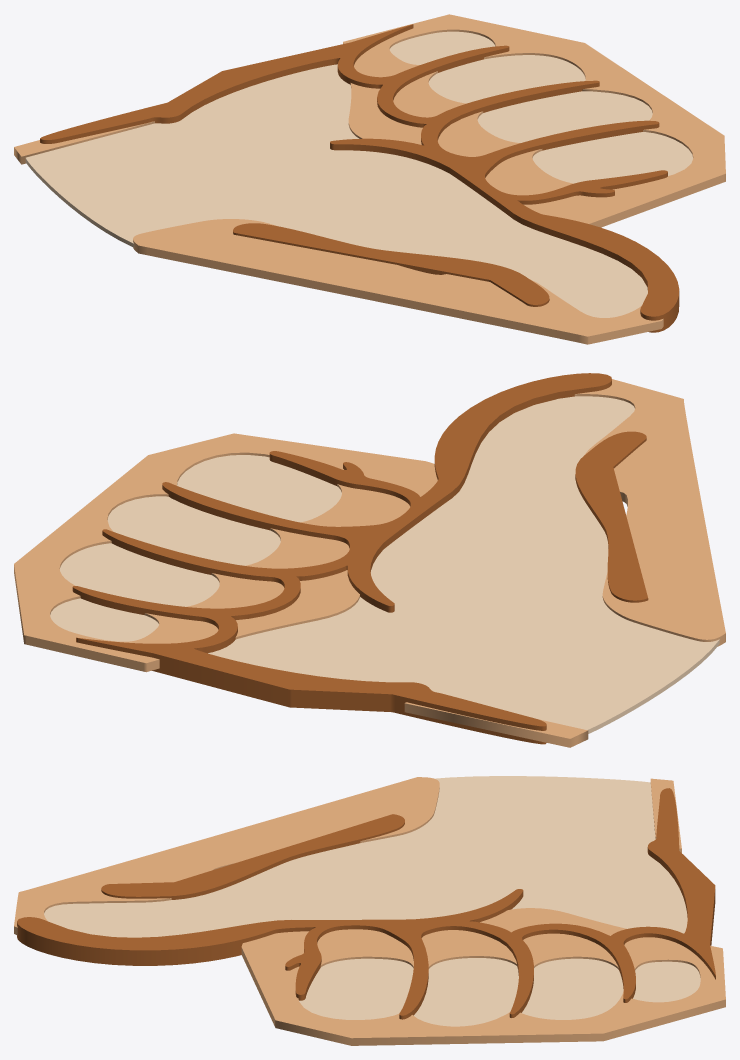
Rendered from emoji_u1f44e_1f3fb.glb.
3 renders of one model, top to bottom at view 1: azimuth 30°, elevation 25°; view 2: azimuth 150°, elevation 25°; view 3: azimuth 270°, elevation 25°, orthographic. The views are drawn at different scales.
Parts seen in each view (by area): view 1: emoji_u1f44e_1f3fb; view 2: emoji_u1f44e_1f3fb; view 3: emoji_u1f44e_1f3fb.
Boxes of the visible parts, <box> form: emoji_u1f44e_1f3fb: <box>14,14,725,344</box>; emoji_u1f44e_1f3fb: <box>14,373,725,747</box>; emoji_u1f44e_1f3fb: <box>14,776,725,1045</box>.
Bounding box in the file's own units: 0.0292 × 0.0008 × 0.0332.
